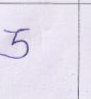u_matra: (2, 42, 31, 60)
